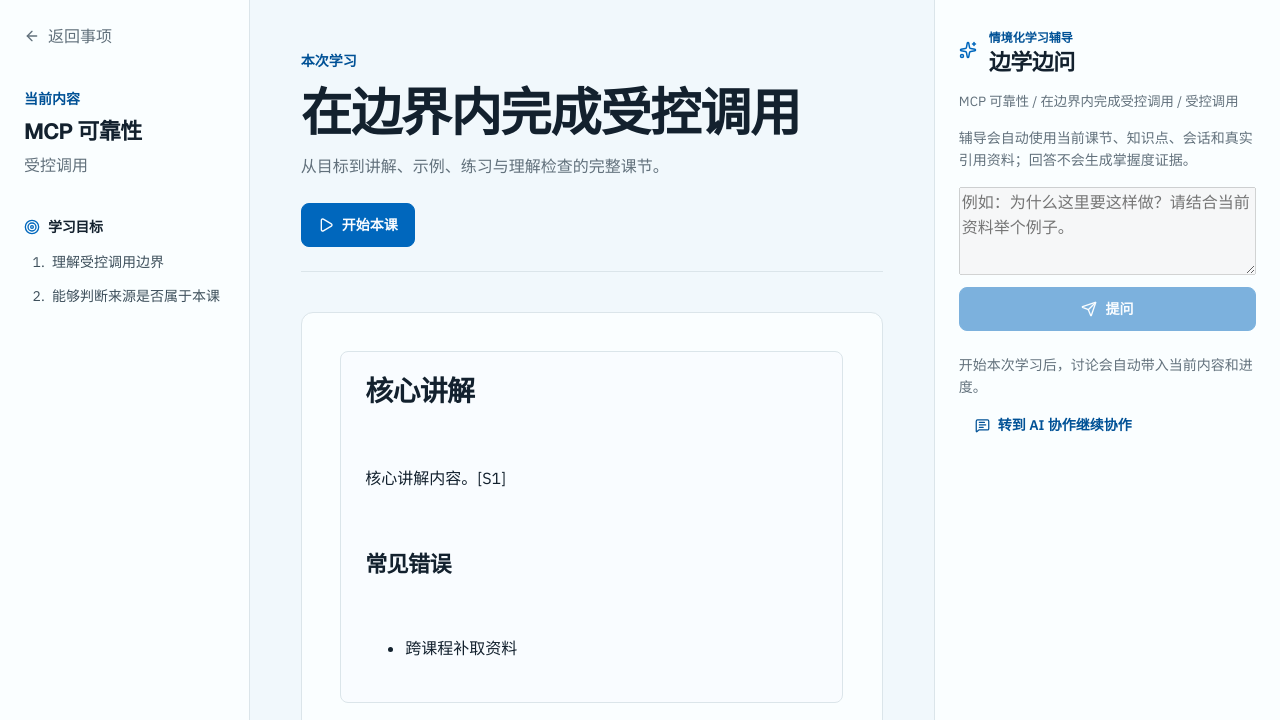
Test: V11E Lesson 学习页 › 没有会话时以精确发布版本开始本课
This screenshot has width=1280, height=720.
Click the button "开始本课" at (358, 225), box 301,203 -> 415,247
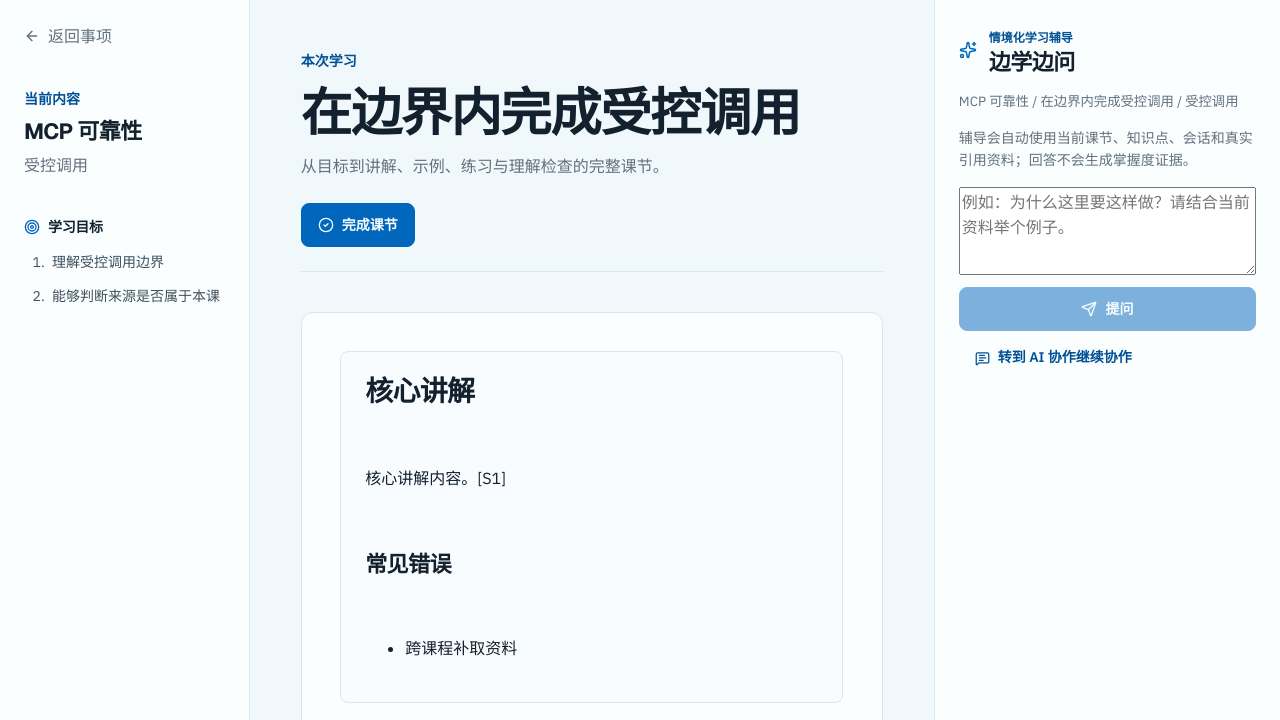
Check: the button "完成课节" is shown, box 301,203 -> 415,247
